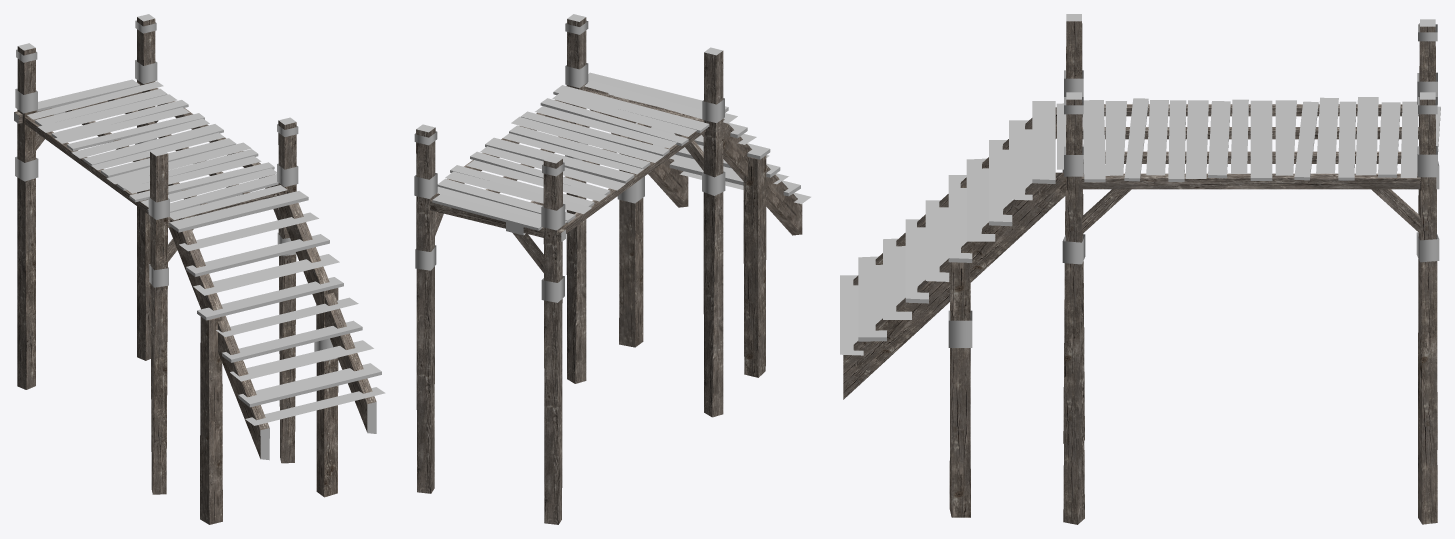
The model's file is WoodStairs1_LOD1.fbx.
3 renders of one model, left to right at view 1: azimuth 30°, elevation 25°; view 2: azimuth 150°, elevation 25°; view 3: azimuth 270°, elevation 25°, orthographic. The views are drawn at different scales.
Visible parts, largest first — view 1: polySurface892; view 2: polySurface892; view 3: polySurface892.
Part boxes in pixels (<box>): polySurface892: <box>14,14,385,524</box>; polySurface892: <box>414,14,810,524</box>; polySurface892: <box>840,14,1440,524</box>.
Bounding box in the file's own units: 2.84 × 6.21 × 7.97.
